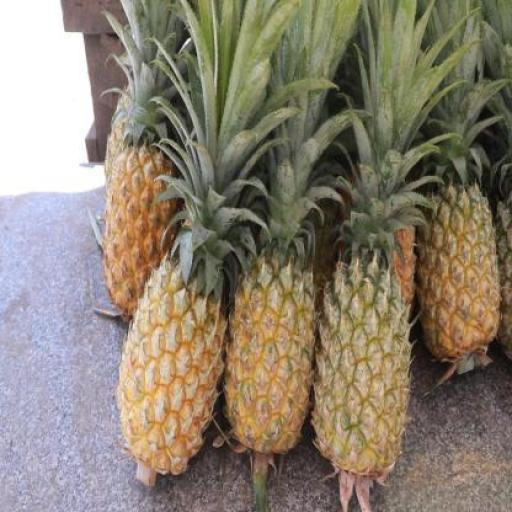------------------------------: (312, 261, 410, 464)
Pineapple - v8 v1: (120, 263, 226, 475), (223, 260, 315, 455), (104, 141, 178, 328), (418, 192, 498, 359)
